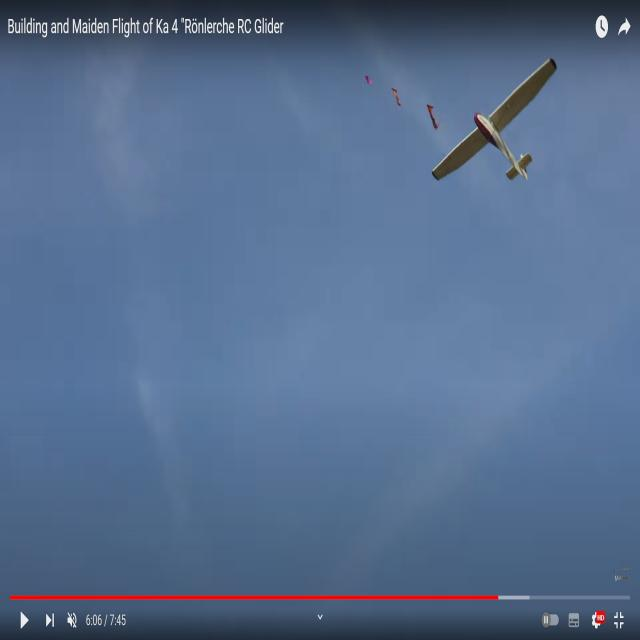iha: (464, 27, 527, 89)
